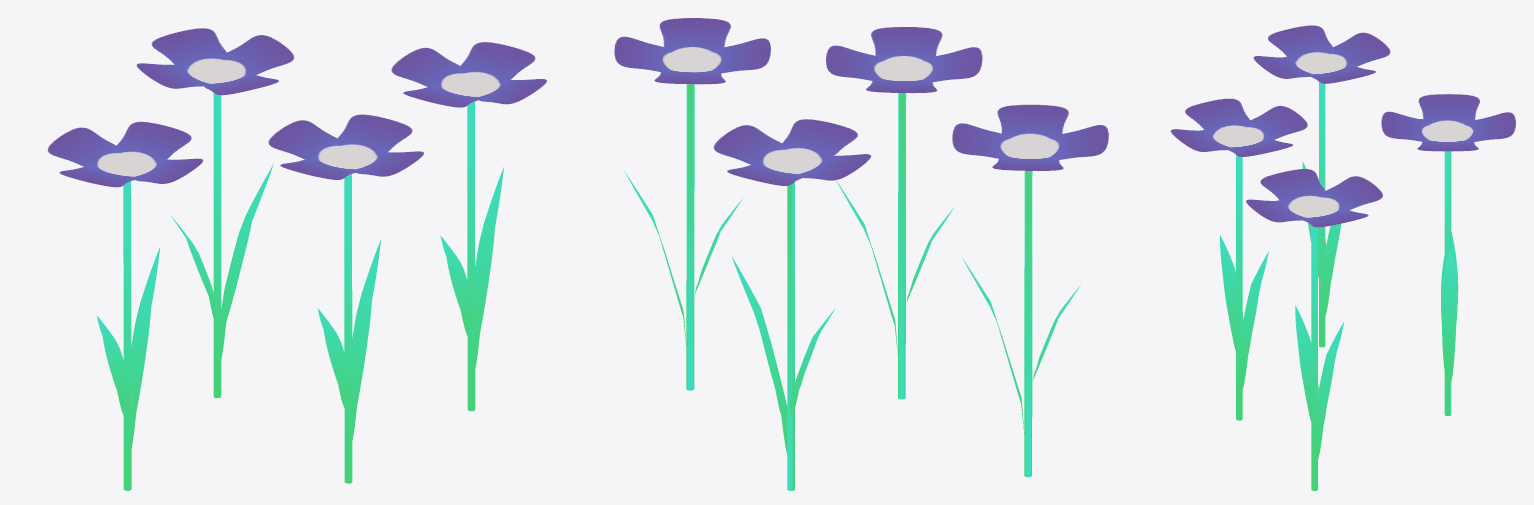
File: Flowers_n03_27.fbx
The picture shows the model from 3 angles, left to right: view 1: azimuth 30°, elevation 25°; view 2: azimuth 150°, elevation 25°; view 3: azimuth 270°, elevation 25°; orthographic projection. The views are drawn at different scales.
Parts seen in each view (by area): view 1: polySurface721; view 2: polySurface721; view 3: polySurface721.
Part boxes in pixels (<box>): polySurface721: <box>47,28,546,490</box>; polySurface721: <box>614,18,1108,490</box>; polySurface721: <box>1170,25,1515,490</box>.
Bounding box in the file's own units: 40 × 24.33 × 28.4.
Materials: 1 (1 with a texture image).
